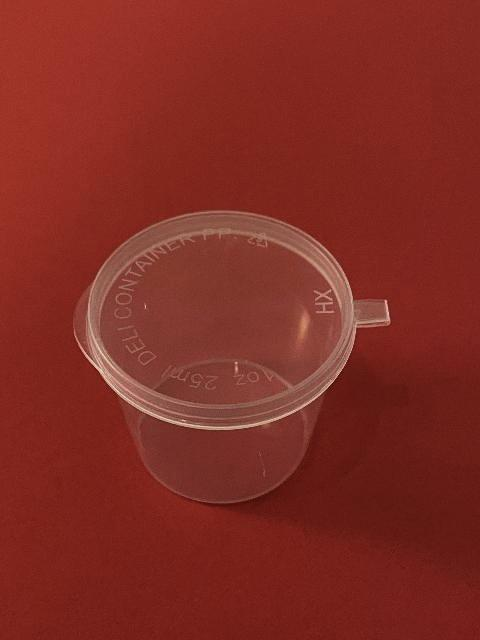plasticcontainer: (70, 206, 392, 509)
